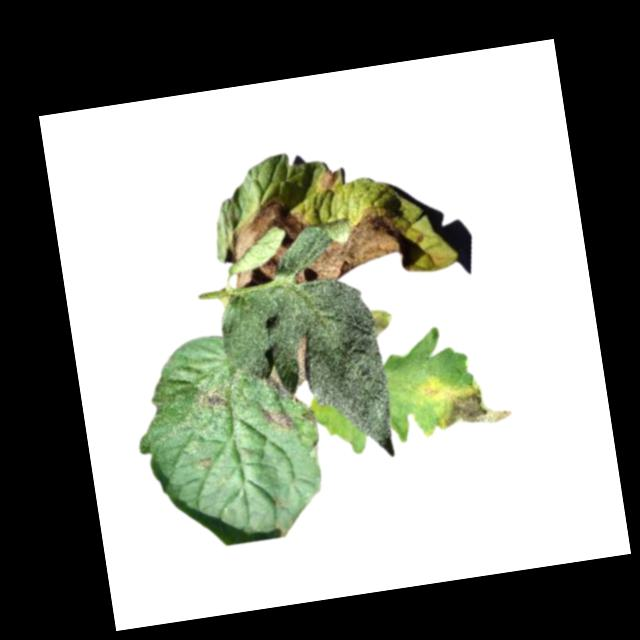Late_blight: (287, 200, 429, 287), (222, 196, 311, 290), (417, 367, 512, 435), (196, 382, 232, 417), (260, 403, 297, 436), (291, 335, 313, 386), (371, 308, 395, 340), (318, 166, 345, 194), (195, 455, 217, 474)
healthy: (216, 273, 396, 478)
